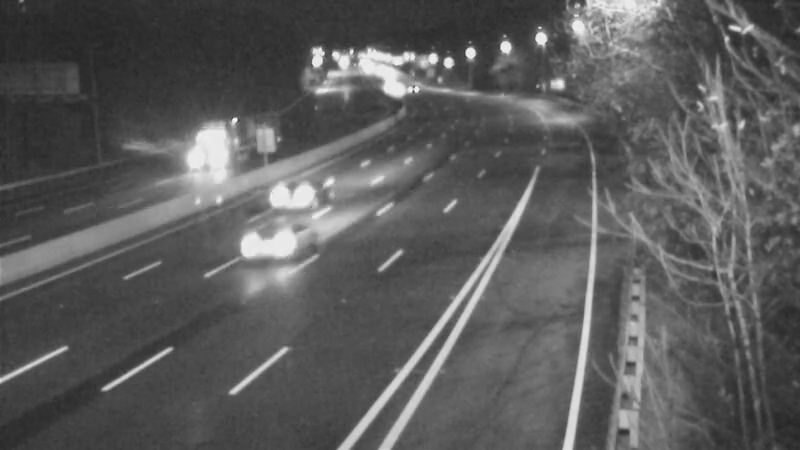vehicle: (254, 155, 334, 235), (236, 203, 316, 283), (161, 111, 241, 191), (389, 61, 439, 111)
